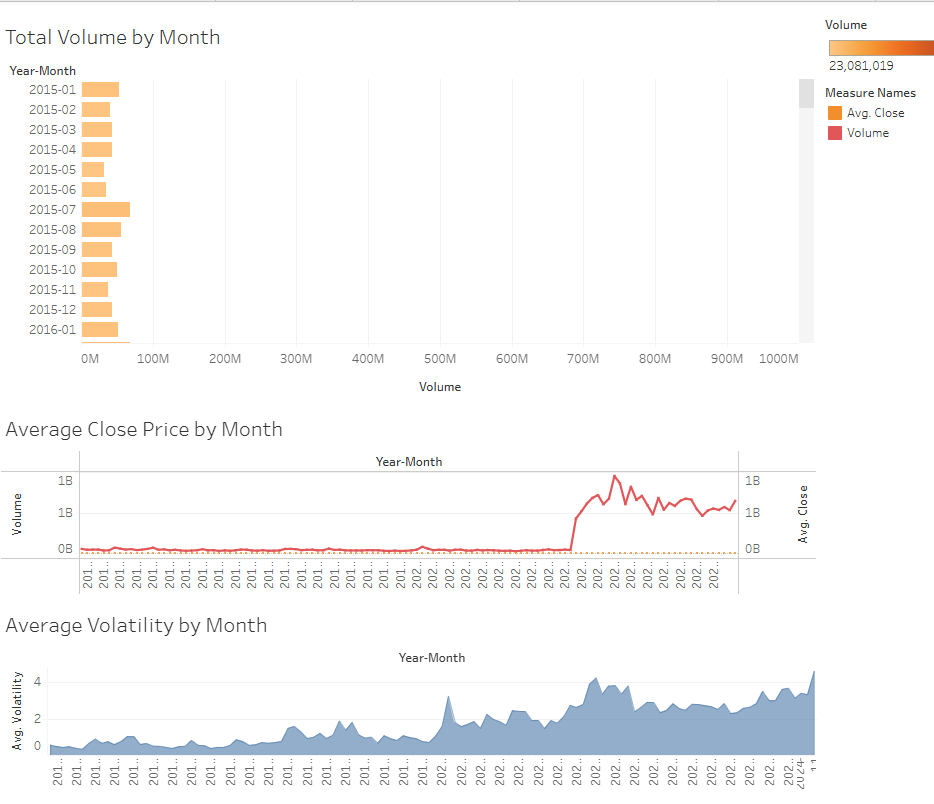

The page's visual inventory and layout, read from the dashboard file:
{"tool":"tableau","page":{"name":"Dashboard 1","canvas":[650,860],"ordinal":0},"visuals":[{"type":"worksheet","title":"Total Volume by Month","mark":"Area","rows":["Year-Month"],"cols":["Volume"],"box":[8,8,634,281.3]},{"type":"worksheet","title":"Average Close Price by Month","mark":"Line","rows":["Volume","Close"],"cols":["Year-Month"],"box":[8,289.3,634,281.3]},{"type":"worksheet","title":"Average Volatility by Month","mark":"Automatic","rows":["Volatility"],"cols":["Year-Month"],"box":[8,570.7,634,281.3]}]}

Visuals, with their boxes on the page's 650x860 design canvas (x1, y1, x2, y2). These are canvas units, not pixel positions in the 934x804 screenshot, which may show the page scaled, cropped or inside an application window:
"Total Volume by Month" worksheet (Area marks): select_region(8, 8, 642, 289)
"Average Close Price by Month" worksheet (Line marks): select_region(8, 289, 642, 571)
"Average Volatility by Month" worksheet: select_region(8, 571, 642, 852)
